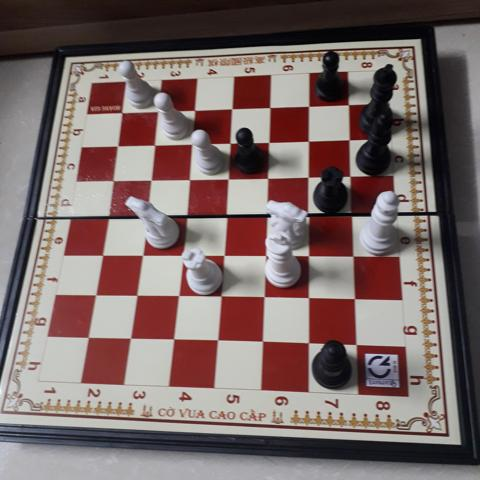xcorner: (258, 169, 274, 185), (299, 206, 315, 222), (98, 207, 114, 223), (299, 289, 315, 305), (253, 333, 269, 349), (338, 98, 354, 113), (299, 99, 314, 115), (150, 104, 165, 120), (114, 105, 129, 121), (299, 169, 315, 184), (180, 170, 195, 186), (141, 171, 157, 186), (104, 171, 119, 187), (342, 206, 357, 222), (257, 207, 273, 222), (216, 207, 232, 222), (299, 247, 315, 262), (256, 246, 271, 262), (132, 246, 148, 261), (93, 245, 108, 261), (255, 288, 270, 304), (211, 288, 227, 303), (127, 286, 143, 301), (87, 285, 102, 301), (122, 329, 137, 345), (261, 101, 276, 116), (223, 102, 238, 117), (186, 103, 201, 118), (340, 132, 355, 147), (299, 133, 314, 148), (260, 134, 275, 149), (221, 135, 236, 150), (183, 136, 198, 151), (146, 137, 161, 152), (109, 138, 124, 153), (341, 168, 356, 183), (219, 170, 234, 185), (176, 207, 191, 222), (137, 207, 152, 222), (344, 247, 359, 262), (214, 246, 229, 261), (173, 246, 188, 261), (345, 290, 360, 305), (169, 287, 184, 302), (347, 336, 362, 351), (300, 335, 315, 350), (209, 332, 224, 347), (165, 331, 180, 346), (80, 328, 95, 343)
